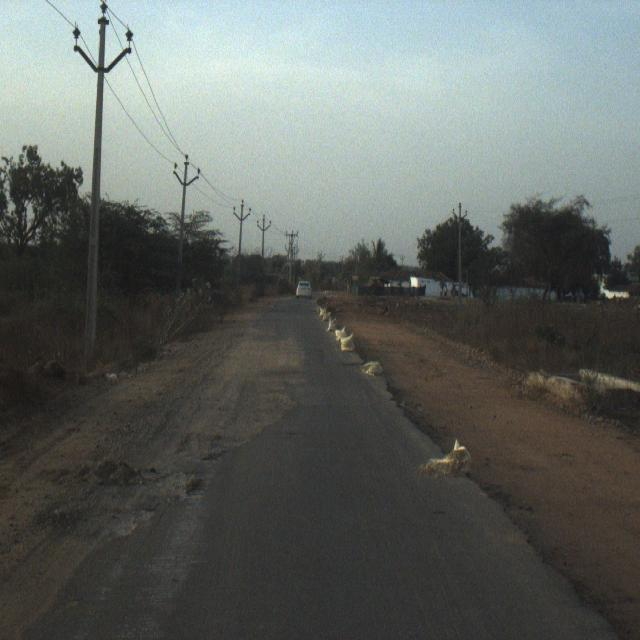pothole: (38, 458, 174, 570), (180, 418, 253, 578), (229, 312, 298, 408)
